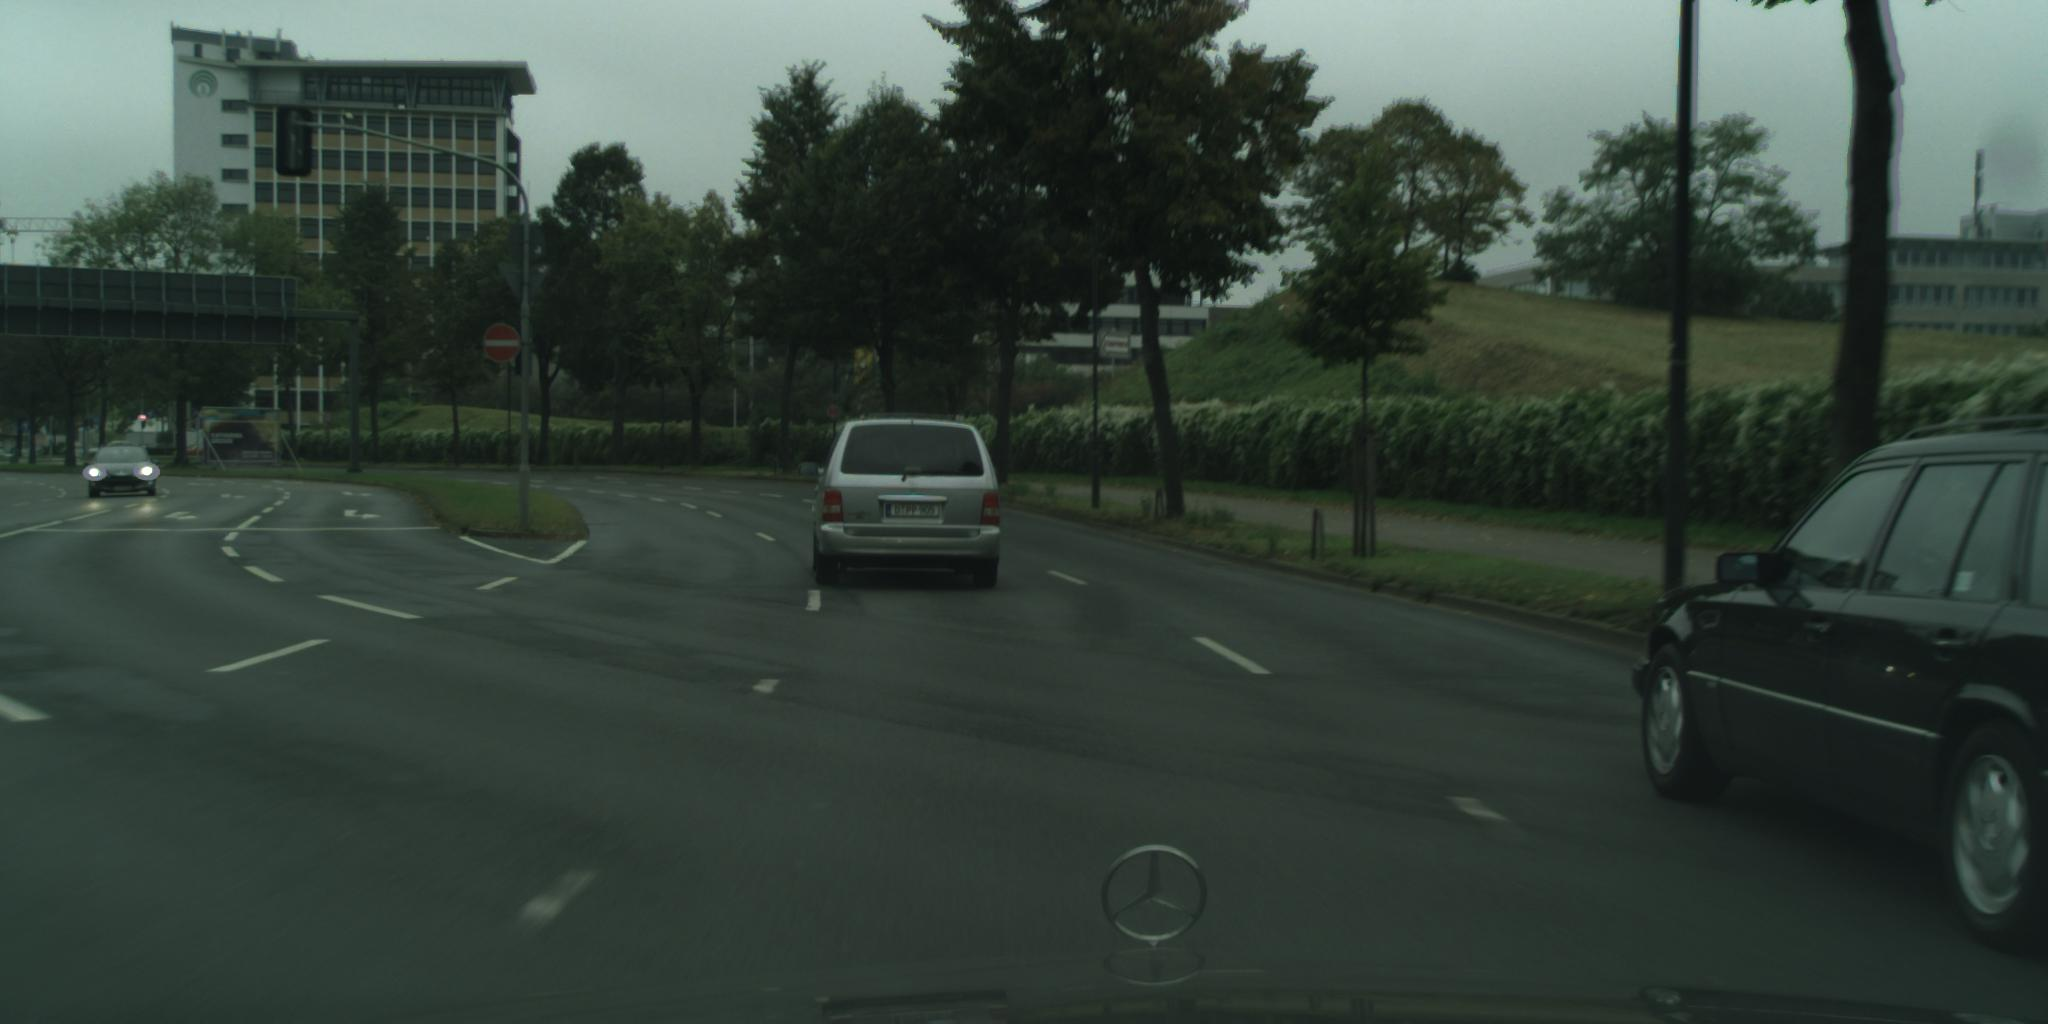car: (1634, 415, 2048, 955), (797, 418, 1003, 590), (88, 445, 162, 502)
